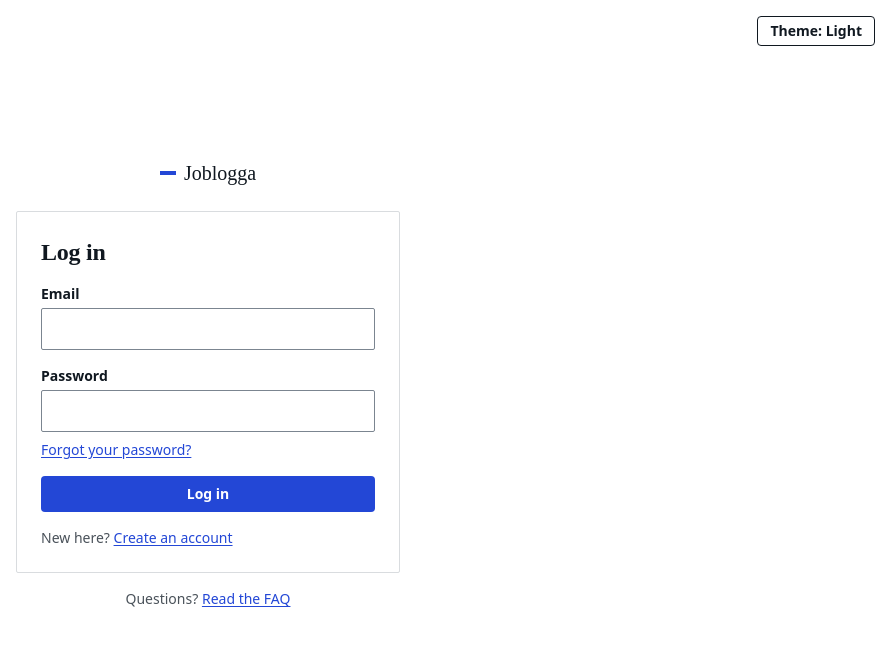
Test: login › tells the user when the backend is unreachable
Type "me@example.com" into the field labelled "Email". click: (208, 329)
box: [41, 308, 375, 350]
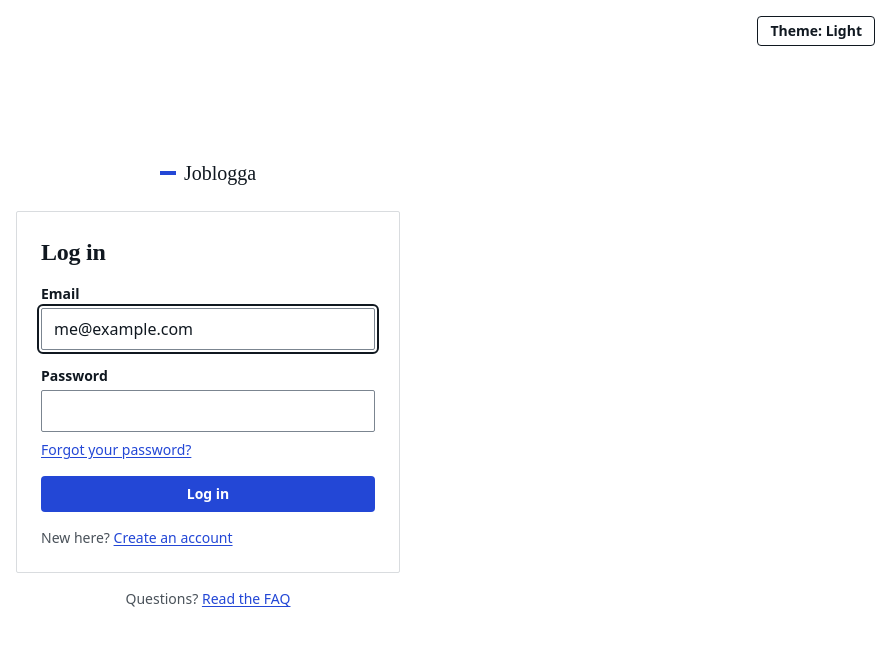
Type "correct-horse-battery" into the password field labelled "Password". click: (208, 411)
box: [41, 390, 375, 432]
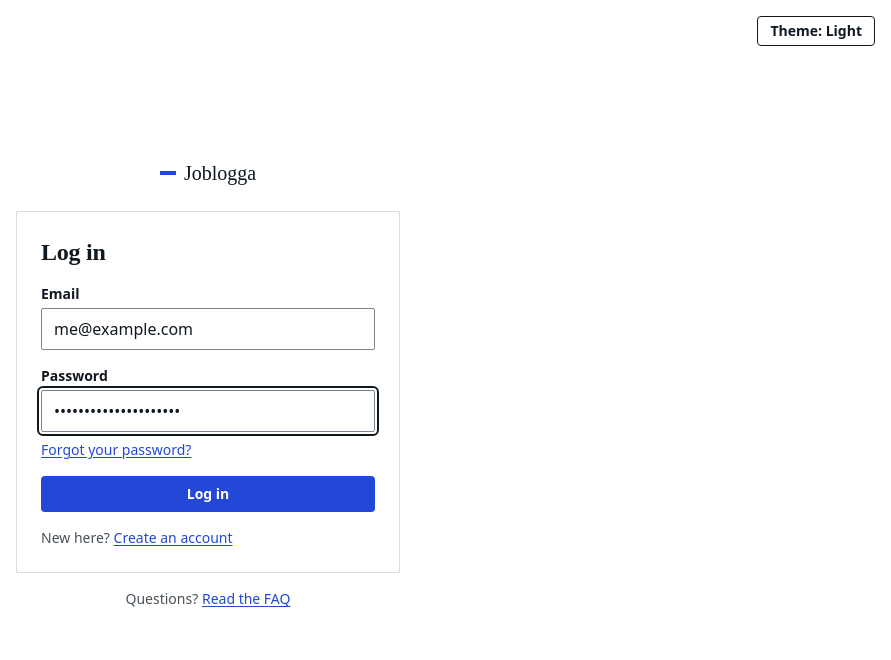
Click the button "Log in". click: click(208, 494)
box: [41, 476, 375, 512]
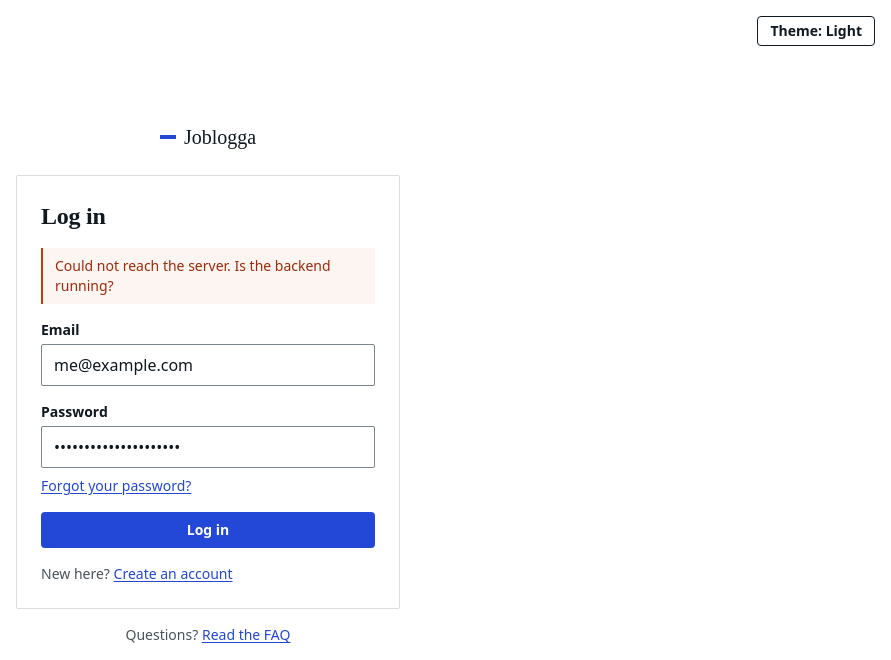
expect the message shows "Could not reach the server": met, box [55, 256, 331, 295]
